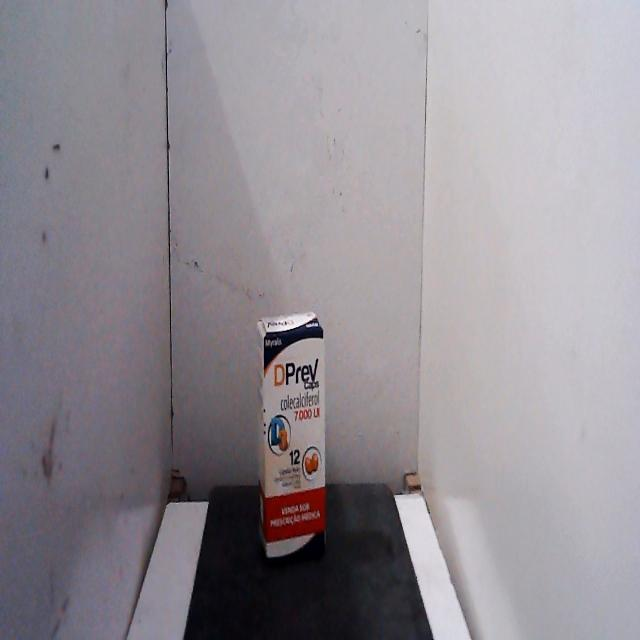papel: (250, 296, 340, 576)
